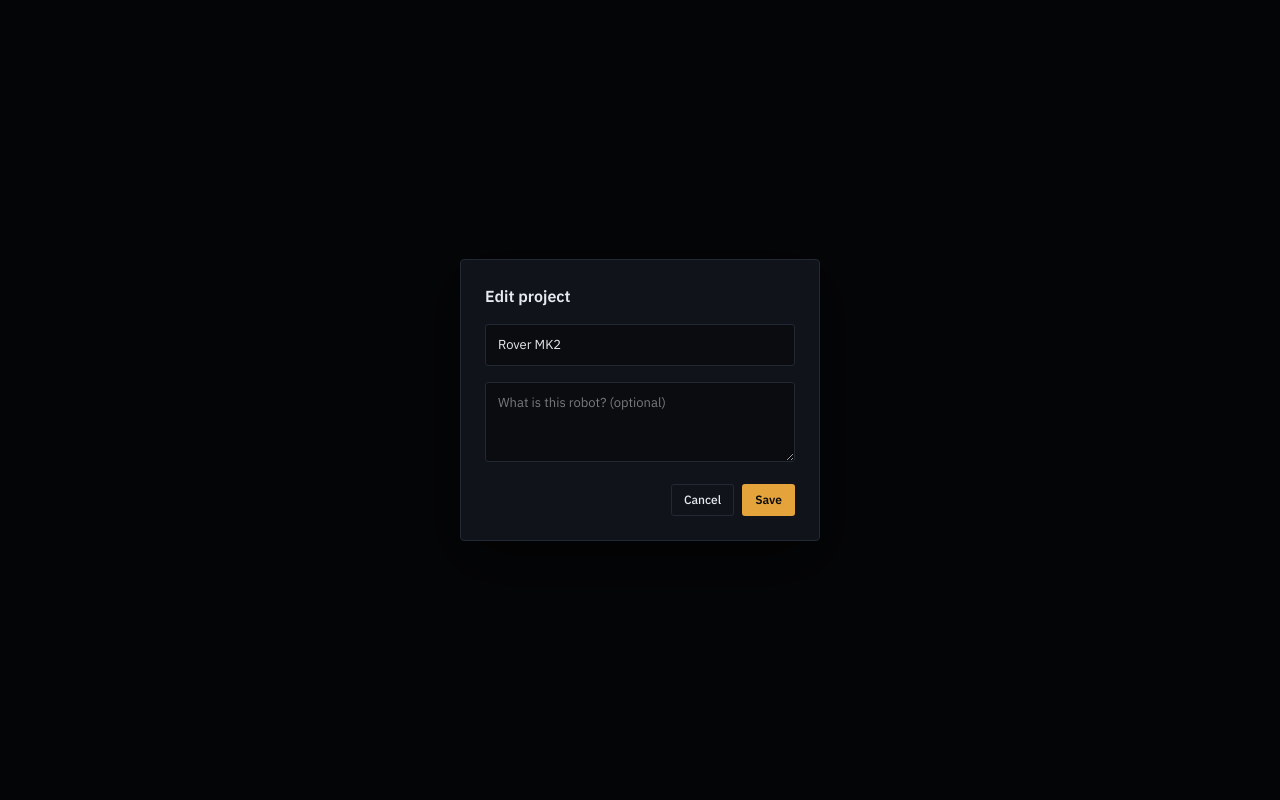
ProjectEditModal › keeps the modal open and shows an error when the save fails
Click the button "Save" at (769, 500), box [742,484,795,516]
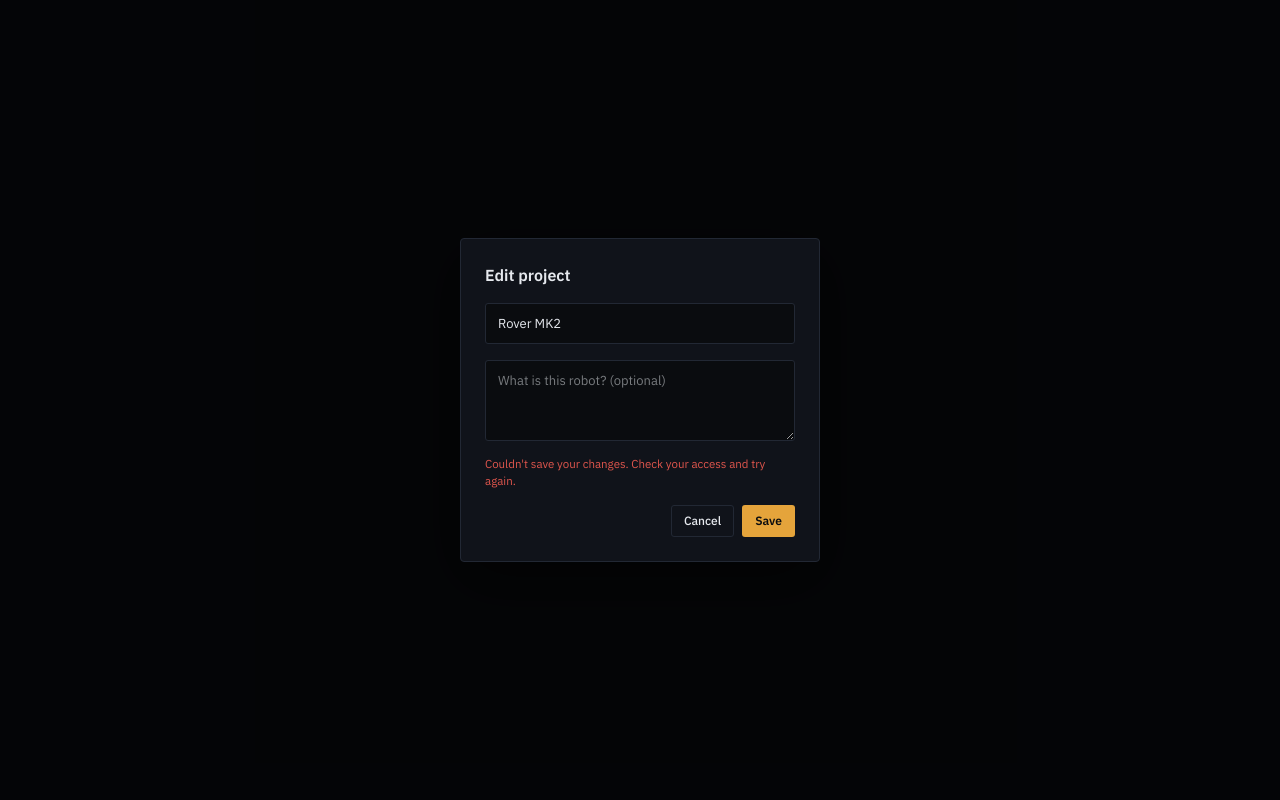
Check: the text "Couldn't save your changes. Check your access and try again." is shown, box [485,455,795,489]
